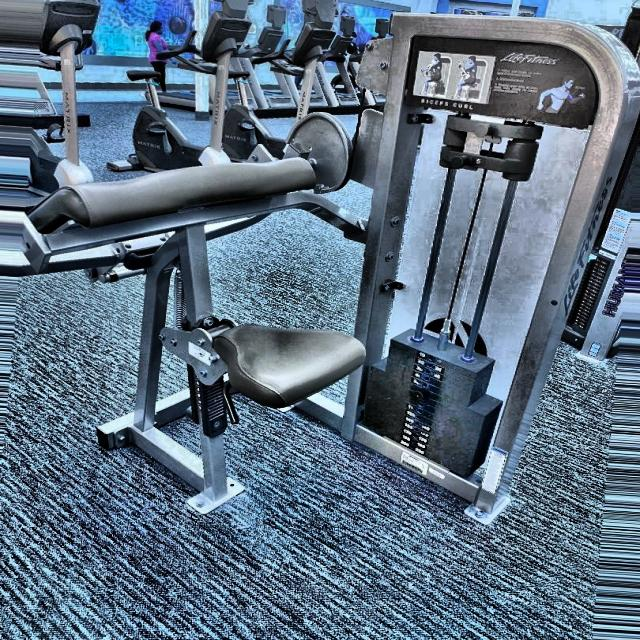bicep_curl_machine: (1, 17, 383, 518), (404, 38, 600, 131)
